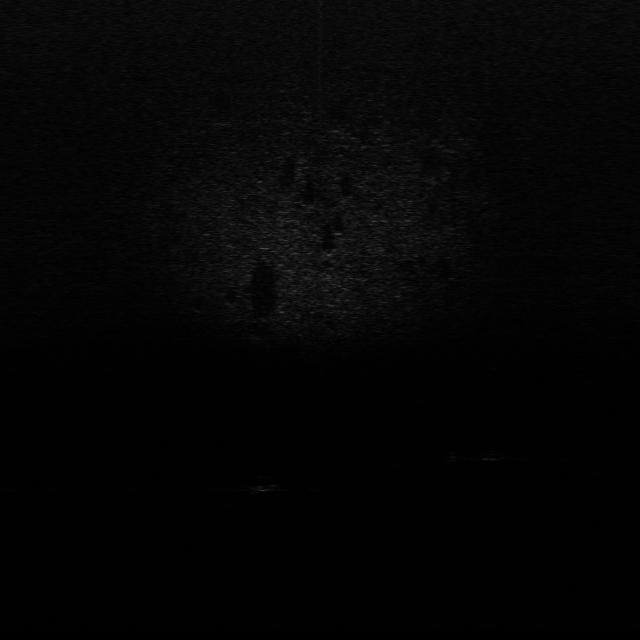ball: (244, 472, 282, 495)
human body: (442, 445, 547, 465)
